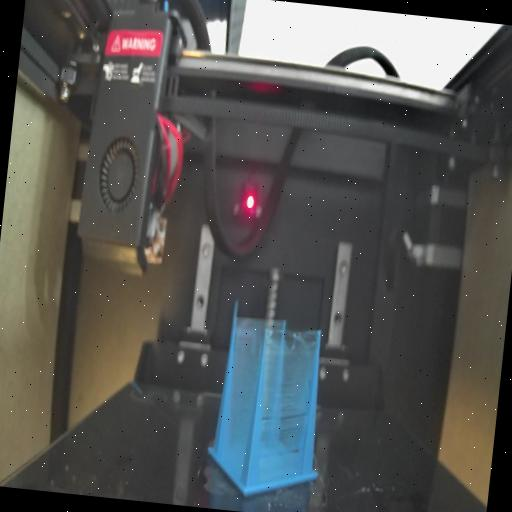stringing: (252, 324, 317, 486), (216, 316, 264, 489)
